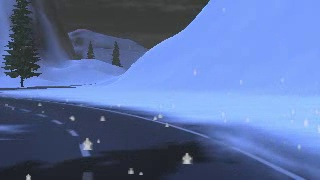Lane: (0, 98, 306, 179)
